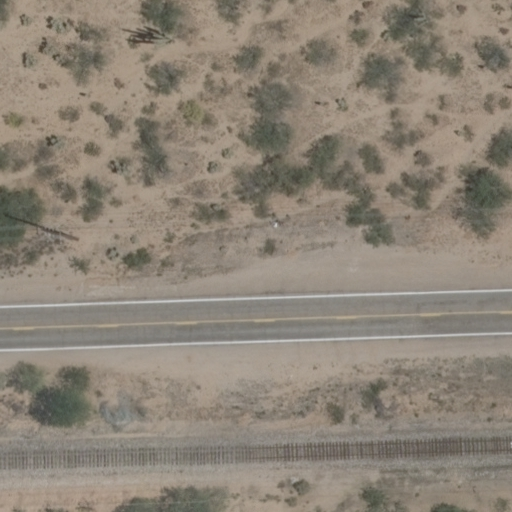DT: (16, 218, 79, 241)
